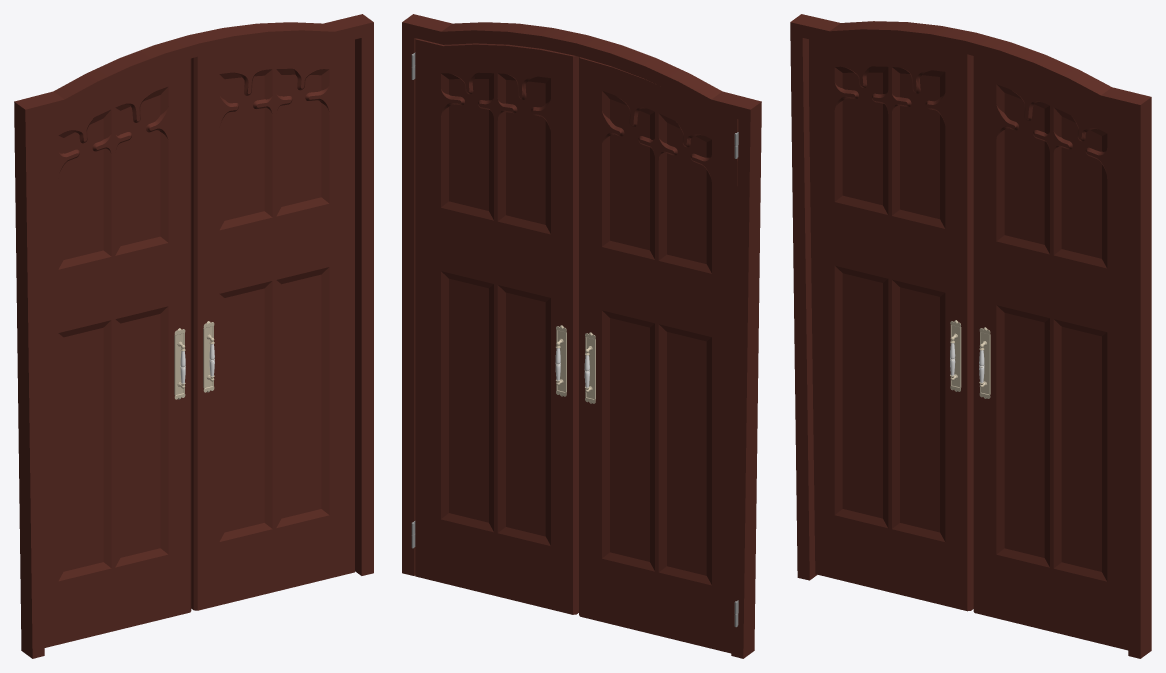
Rendered from EntranceDoor.fbx.
3 views of the same model, side by side, from view 1: azimuth 30°, elevation 25°; view 2: azimuth 150°, elevation 25°; view 3: azimuth 330°, elevation 25° (orthographic).
Parts seen in each view (by area): view 1: ドア右, ドア左, ドア枠; view 2: ドア右, ドア左, ドア枠; view 3: ドア左, ドア右, ドア枠.
Part boxes in pixels (<box>): ドア右: <box>191,39,354,610</box>; ドア左: <box>37,58,191,647</box>; ドア枠: <box>14,14,373,658</box>; ドア右: <box>411,38,578,614</box>; ドア左: <box>579,57,738,654</box>; ドア枠: <box>402,14,761,658</box>; ドア左: <box>809,39,973,611</box>; ドア右: <box>973,56,1128,650</box>; ドア枠: <box>790,14,1151,658</box>.
Size of the model in its own units: 1439 by 2269 by 116.
